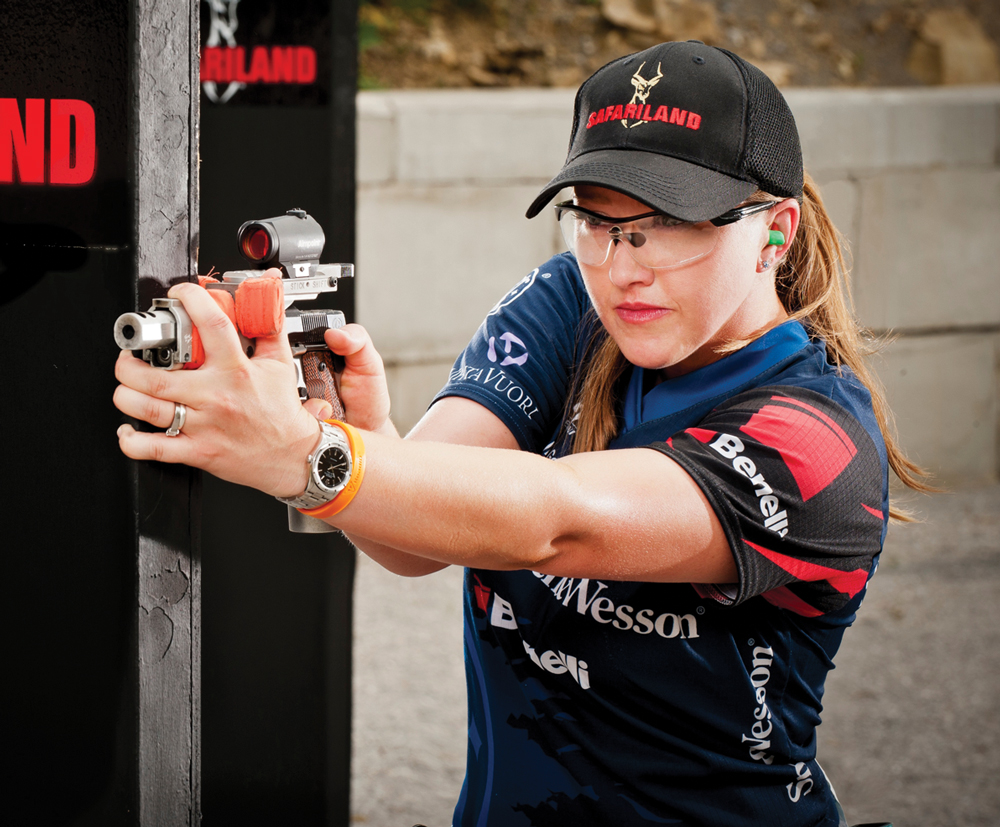Gun: (141, 233, 335, 458)
